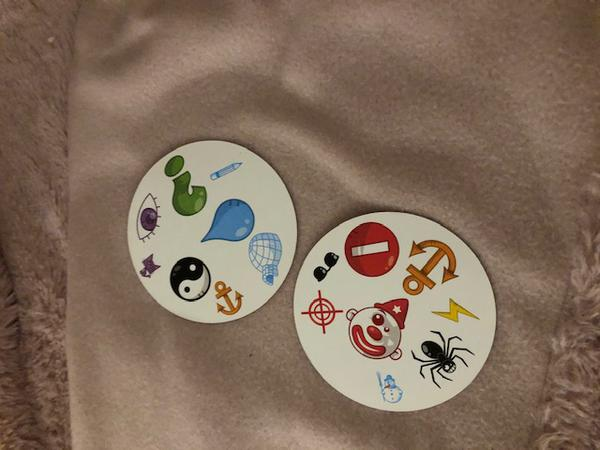ancre: (397, 237, 460, 299), (211, 274, 246, 317)
araignee: (409, 328, 476, 389)
bonhomme_neige: (369, 366, 408, 408)
chat: (138, 253, 162, 280)
cible: (299, 291, 350, 336)
clown: (340, 295, 410, 363)
crayon: (206, 155, 243, 185)
eclair: (431, 294, 479, 328)
goutte: (203, 198, 258, 243)
igloo: (243, 224, 282, 287)
lunette: (311, 250, 340, 283)
oeuil: (128, 188, 162, 243)
point_interrogation: (157, 151, 209, 216)
sens_interdit: (341, 221, 400, 280)
ying_yang: (167, 254, 216, 306)
